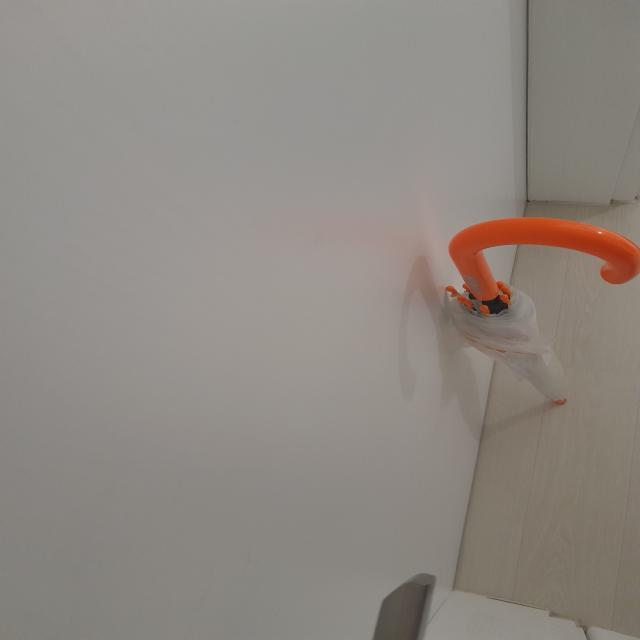umbrella: (446, 217, 639, 419)
